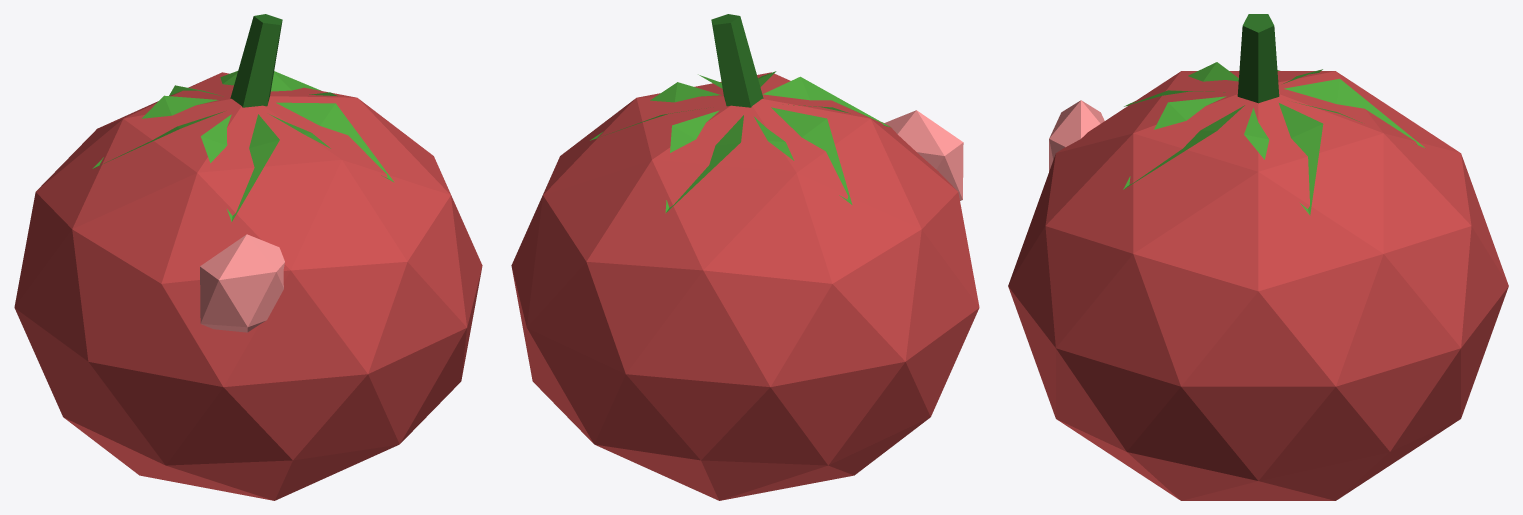
Rendered from tomato.glb.
3 views of the same model, side by side, from view 1: azimuth 30°, elevation 25°; view 2: azimuth 150°, elevation 25°; view 3: azimuth 270°, elevation 25° (orthographic). The views are drawn at different scales.
Parts seen in each view (by area): view 1: tomato; view 2: tomato; view 3: tomato.
Part boxes in pixels (x1,y1,x2,y2): tomato: (14,14,482,500); tomato: (511,14,979,500); tomato: (1008,14,1508,500).
Bounding box in the file's own units: 0.2283 × 0.2521 × 0.24.
